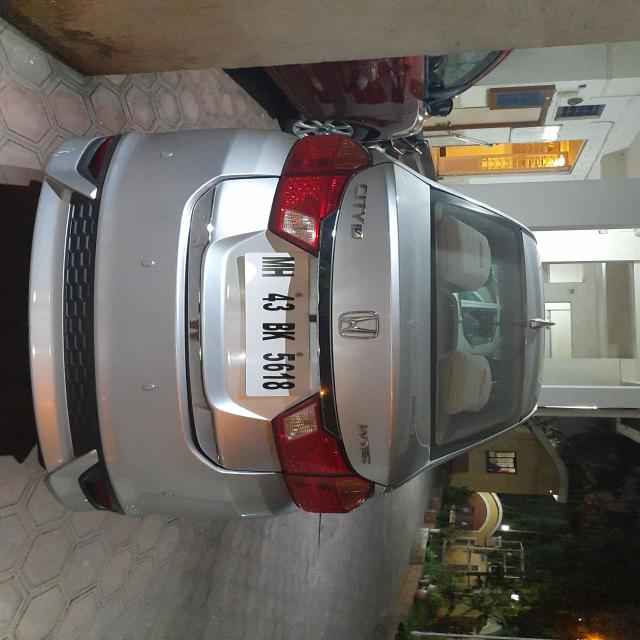Number-Plate: (242, 252, 320, 402)
